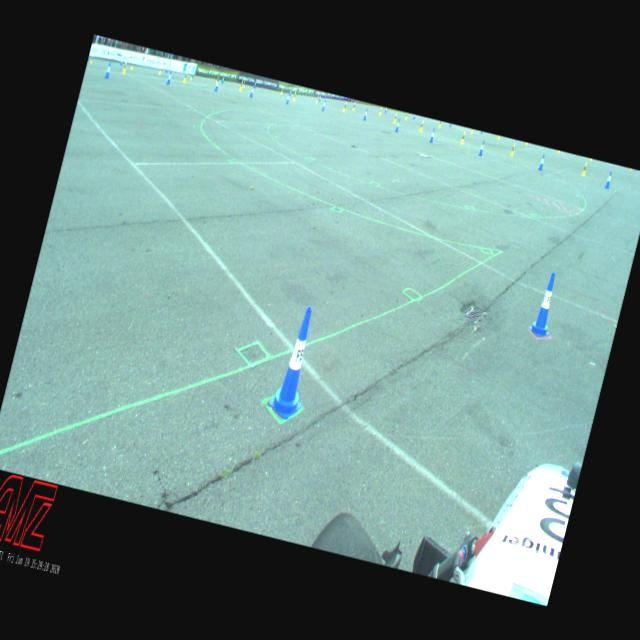blue_cone: (265, 301, 325, 422), (526, 270, 563, 340), (603, 168, 613, 190), (537, 152, 546, 172), (477, 138, 486, 158), (103, 60, 112, 80), (428, 125, 436, 144), (394, 116, 401, 132), (165, 70, 172, 86), (362, 106, 369, 120), (213, 78, 220, 91), (248, 85, 254, 98), (321, 98, 326, 112), (285, 93, 290, 104), (164, 64, 169, 73), (120, 56, 124, 66), (220, 74, 224, 84), (253, 79, 257, 89), (191, 69, 195, 78), (288, 88, 292, 96), (318, 94, 322, 102), (383, 107, 387, 114), (412, 114, 416, 120)
yellow_cone: (459, 129, 467, 145), (580, 161, 588, 176), (508, 142, 516, 156), (121, 60, 128, 74), (418, 119, 425, 133), (182, 70, 188, 82), (238, 80, 244, 91), (342, 100, 347, 112), (392, 112, 397, 123), (292, 90, 296, 101), (215, 74, 219, 85), (403, 112, 408, 120), (352, 102, 356, 112), (90, 54, 94, 64), (130, 60, 134, 70), (280, 86, 284, 96), (315, 93, 319, 103), (378, 106, 382, 115), (158, 66, 162, 75), (242, 79, 246, 88), (438, 120, 442, 128), (190, 72, 193, 80), (469, 129, 473, 135)
